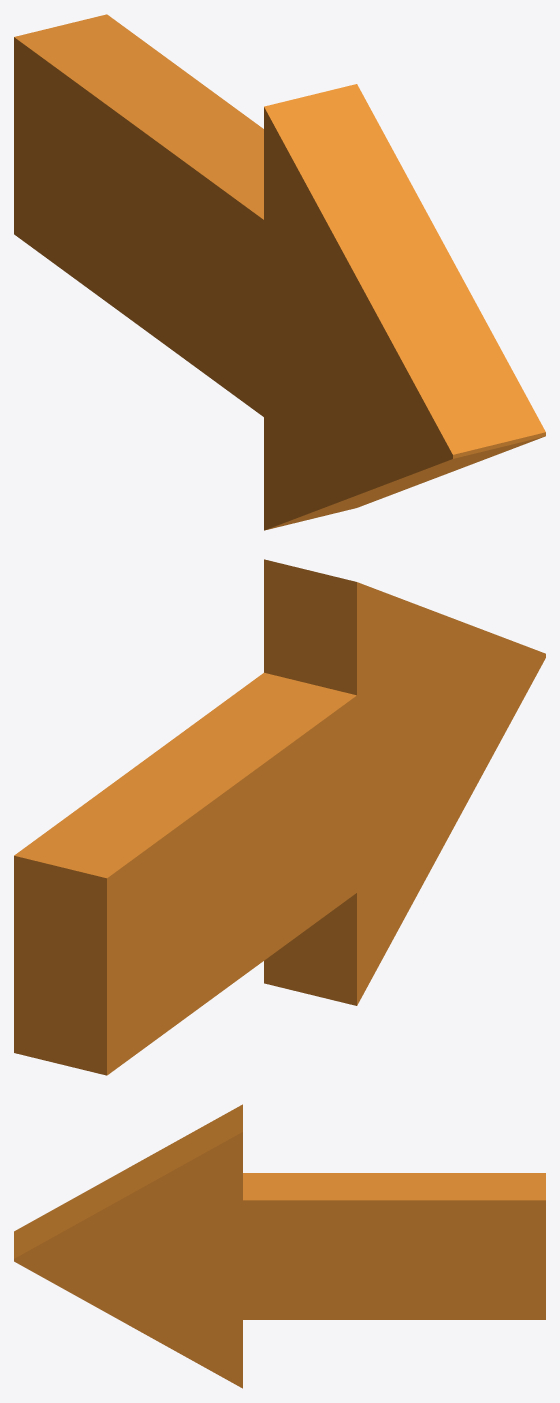
Rendered from Arrow 1.fbx.
3 renders of one model, top to bottom at view 1: azimuth 30°, elevation 25°; view 2: azimuth 150°, elevation 25°; view 3: azimuth 270°, elevation 25°, orthographic. The views are drawn at different scales.
Parts seen in each view (by area): view 1: Cube; view 2: Cube; view 3: Cube.
Boxes of the visible parts, box(x1,y1,x2,y2) form: Cube: box(14, 14, 545, 530); Cube: box(14, 559, 545, 1075); Cube: box(14, 1104, 545, 1388).
Bounding box in the file's own units: 59.89 × 261 × 489.
